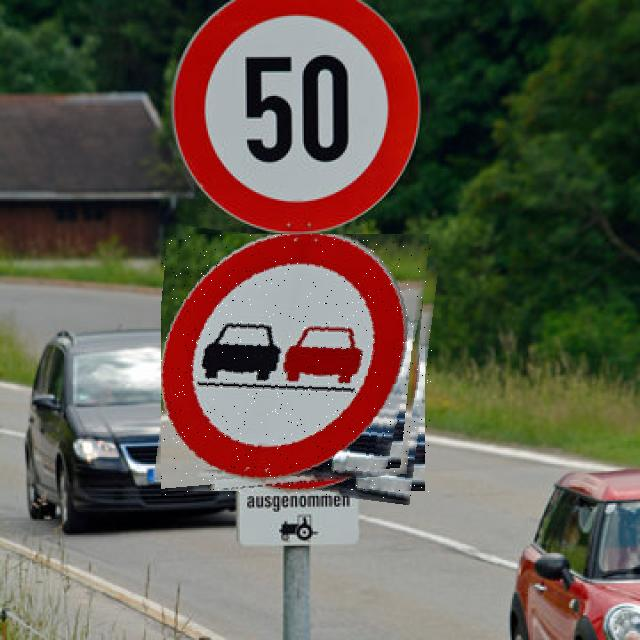no overtaking: (161, 234, 432, 498)
